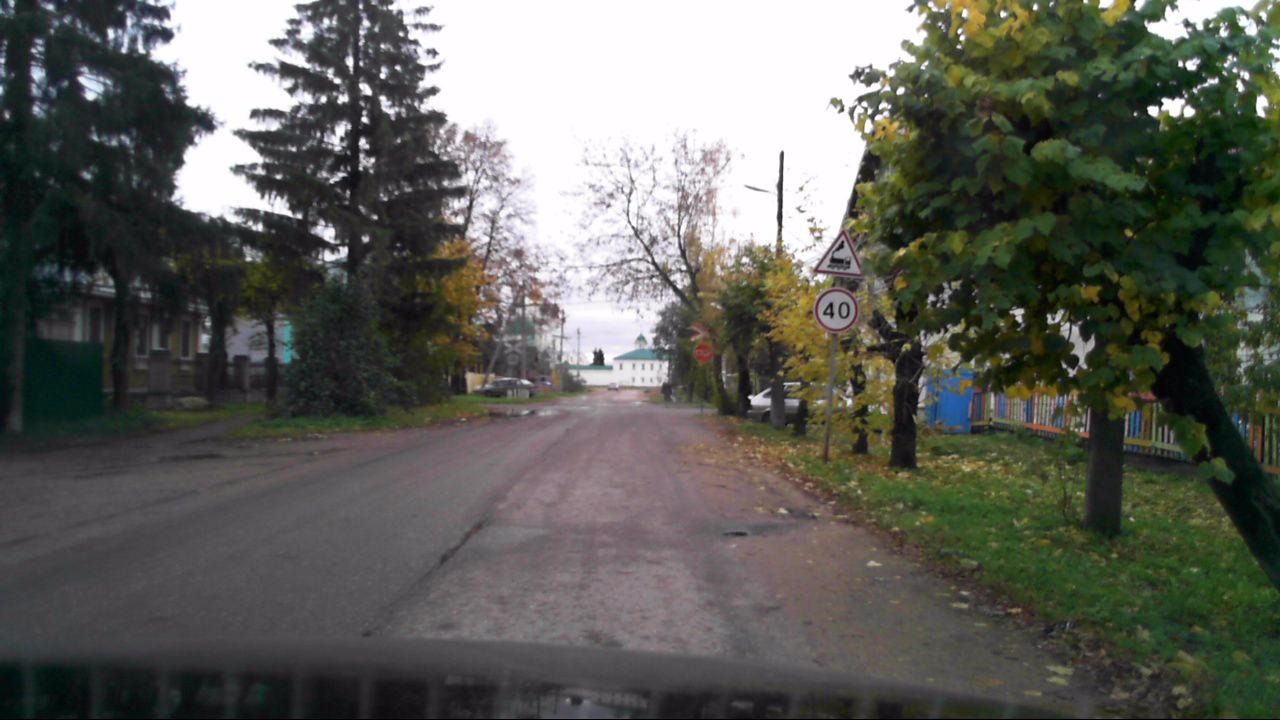speed_warning_40: (813, 288, 858, 333)
